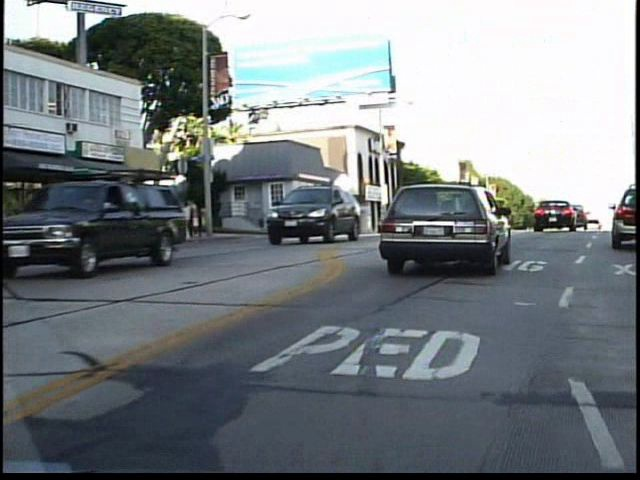person: (181, 196, 208, 243)
